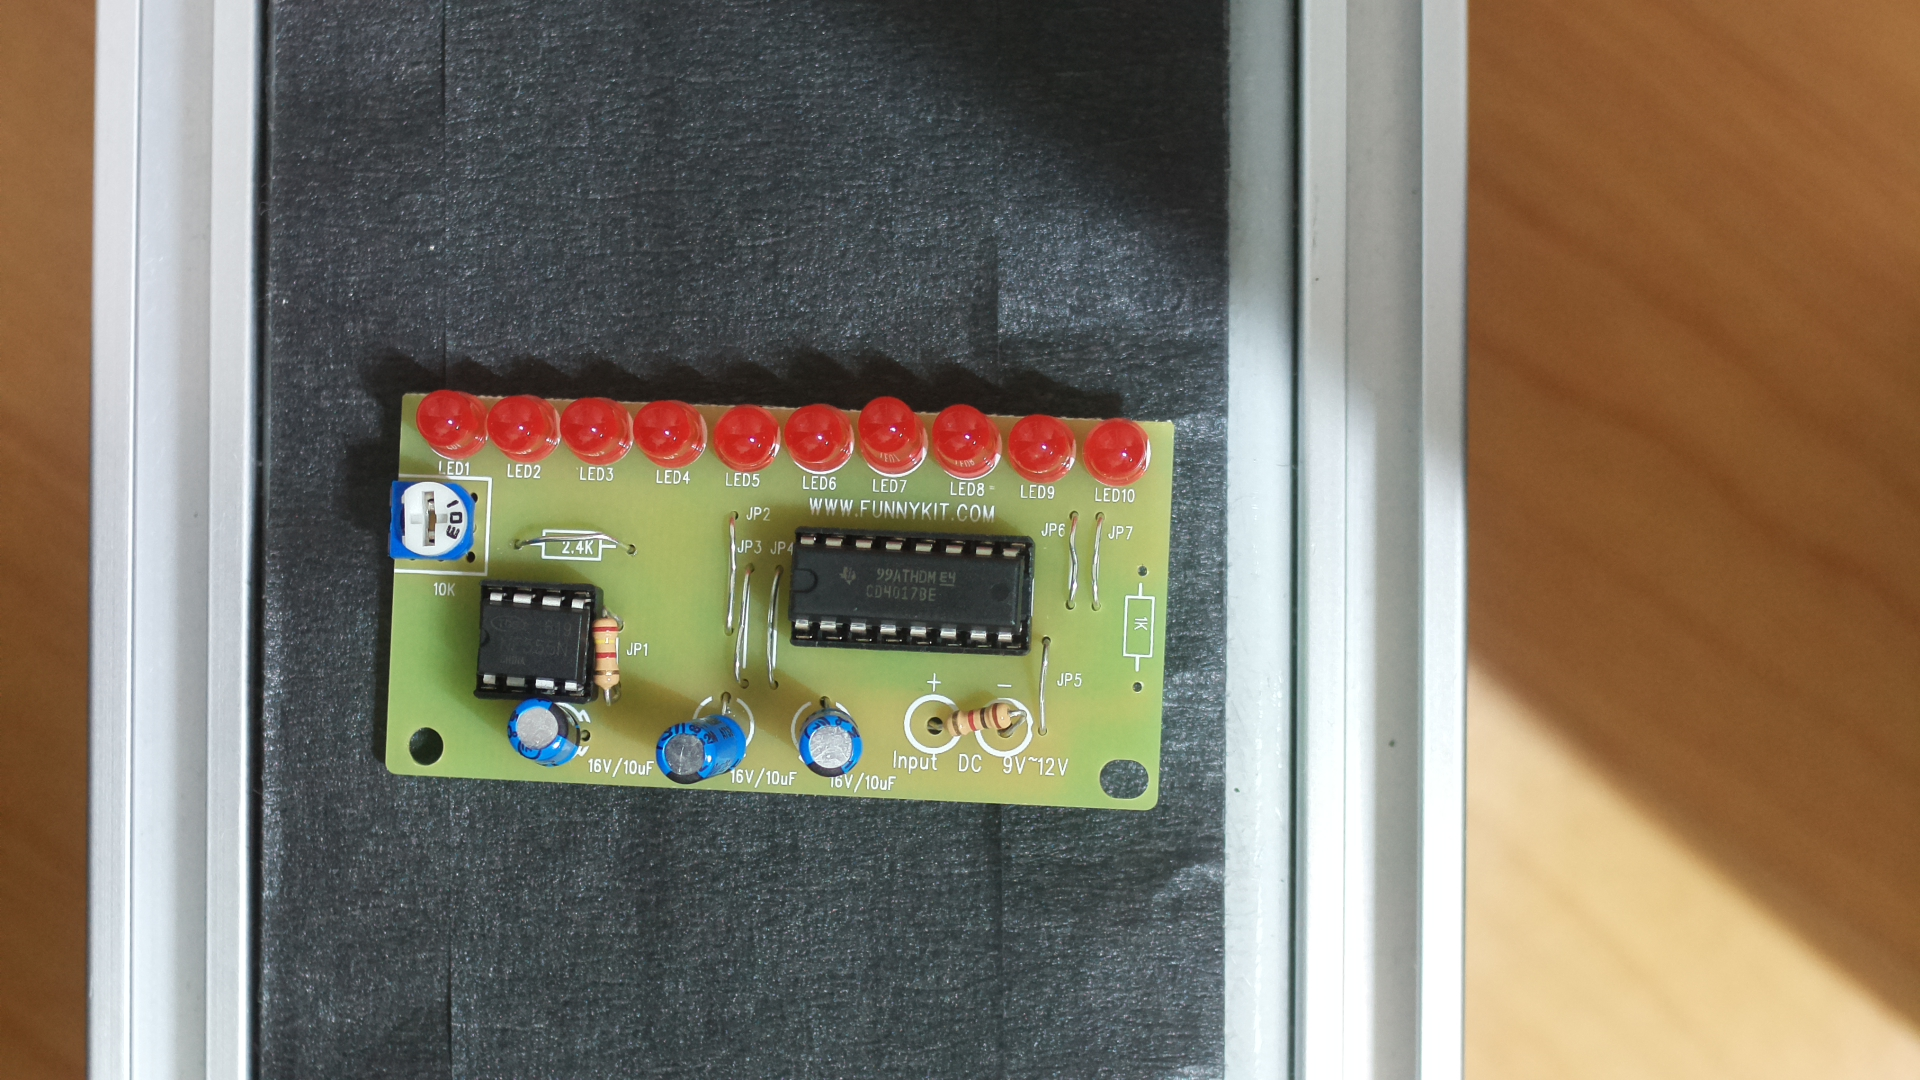B_Misordered: (368, 347, 1176, 818)
